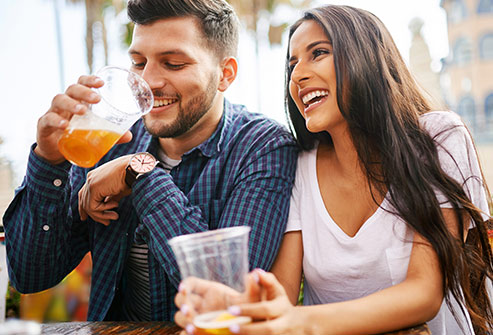drinking: (66, 2, 252, 226)
